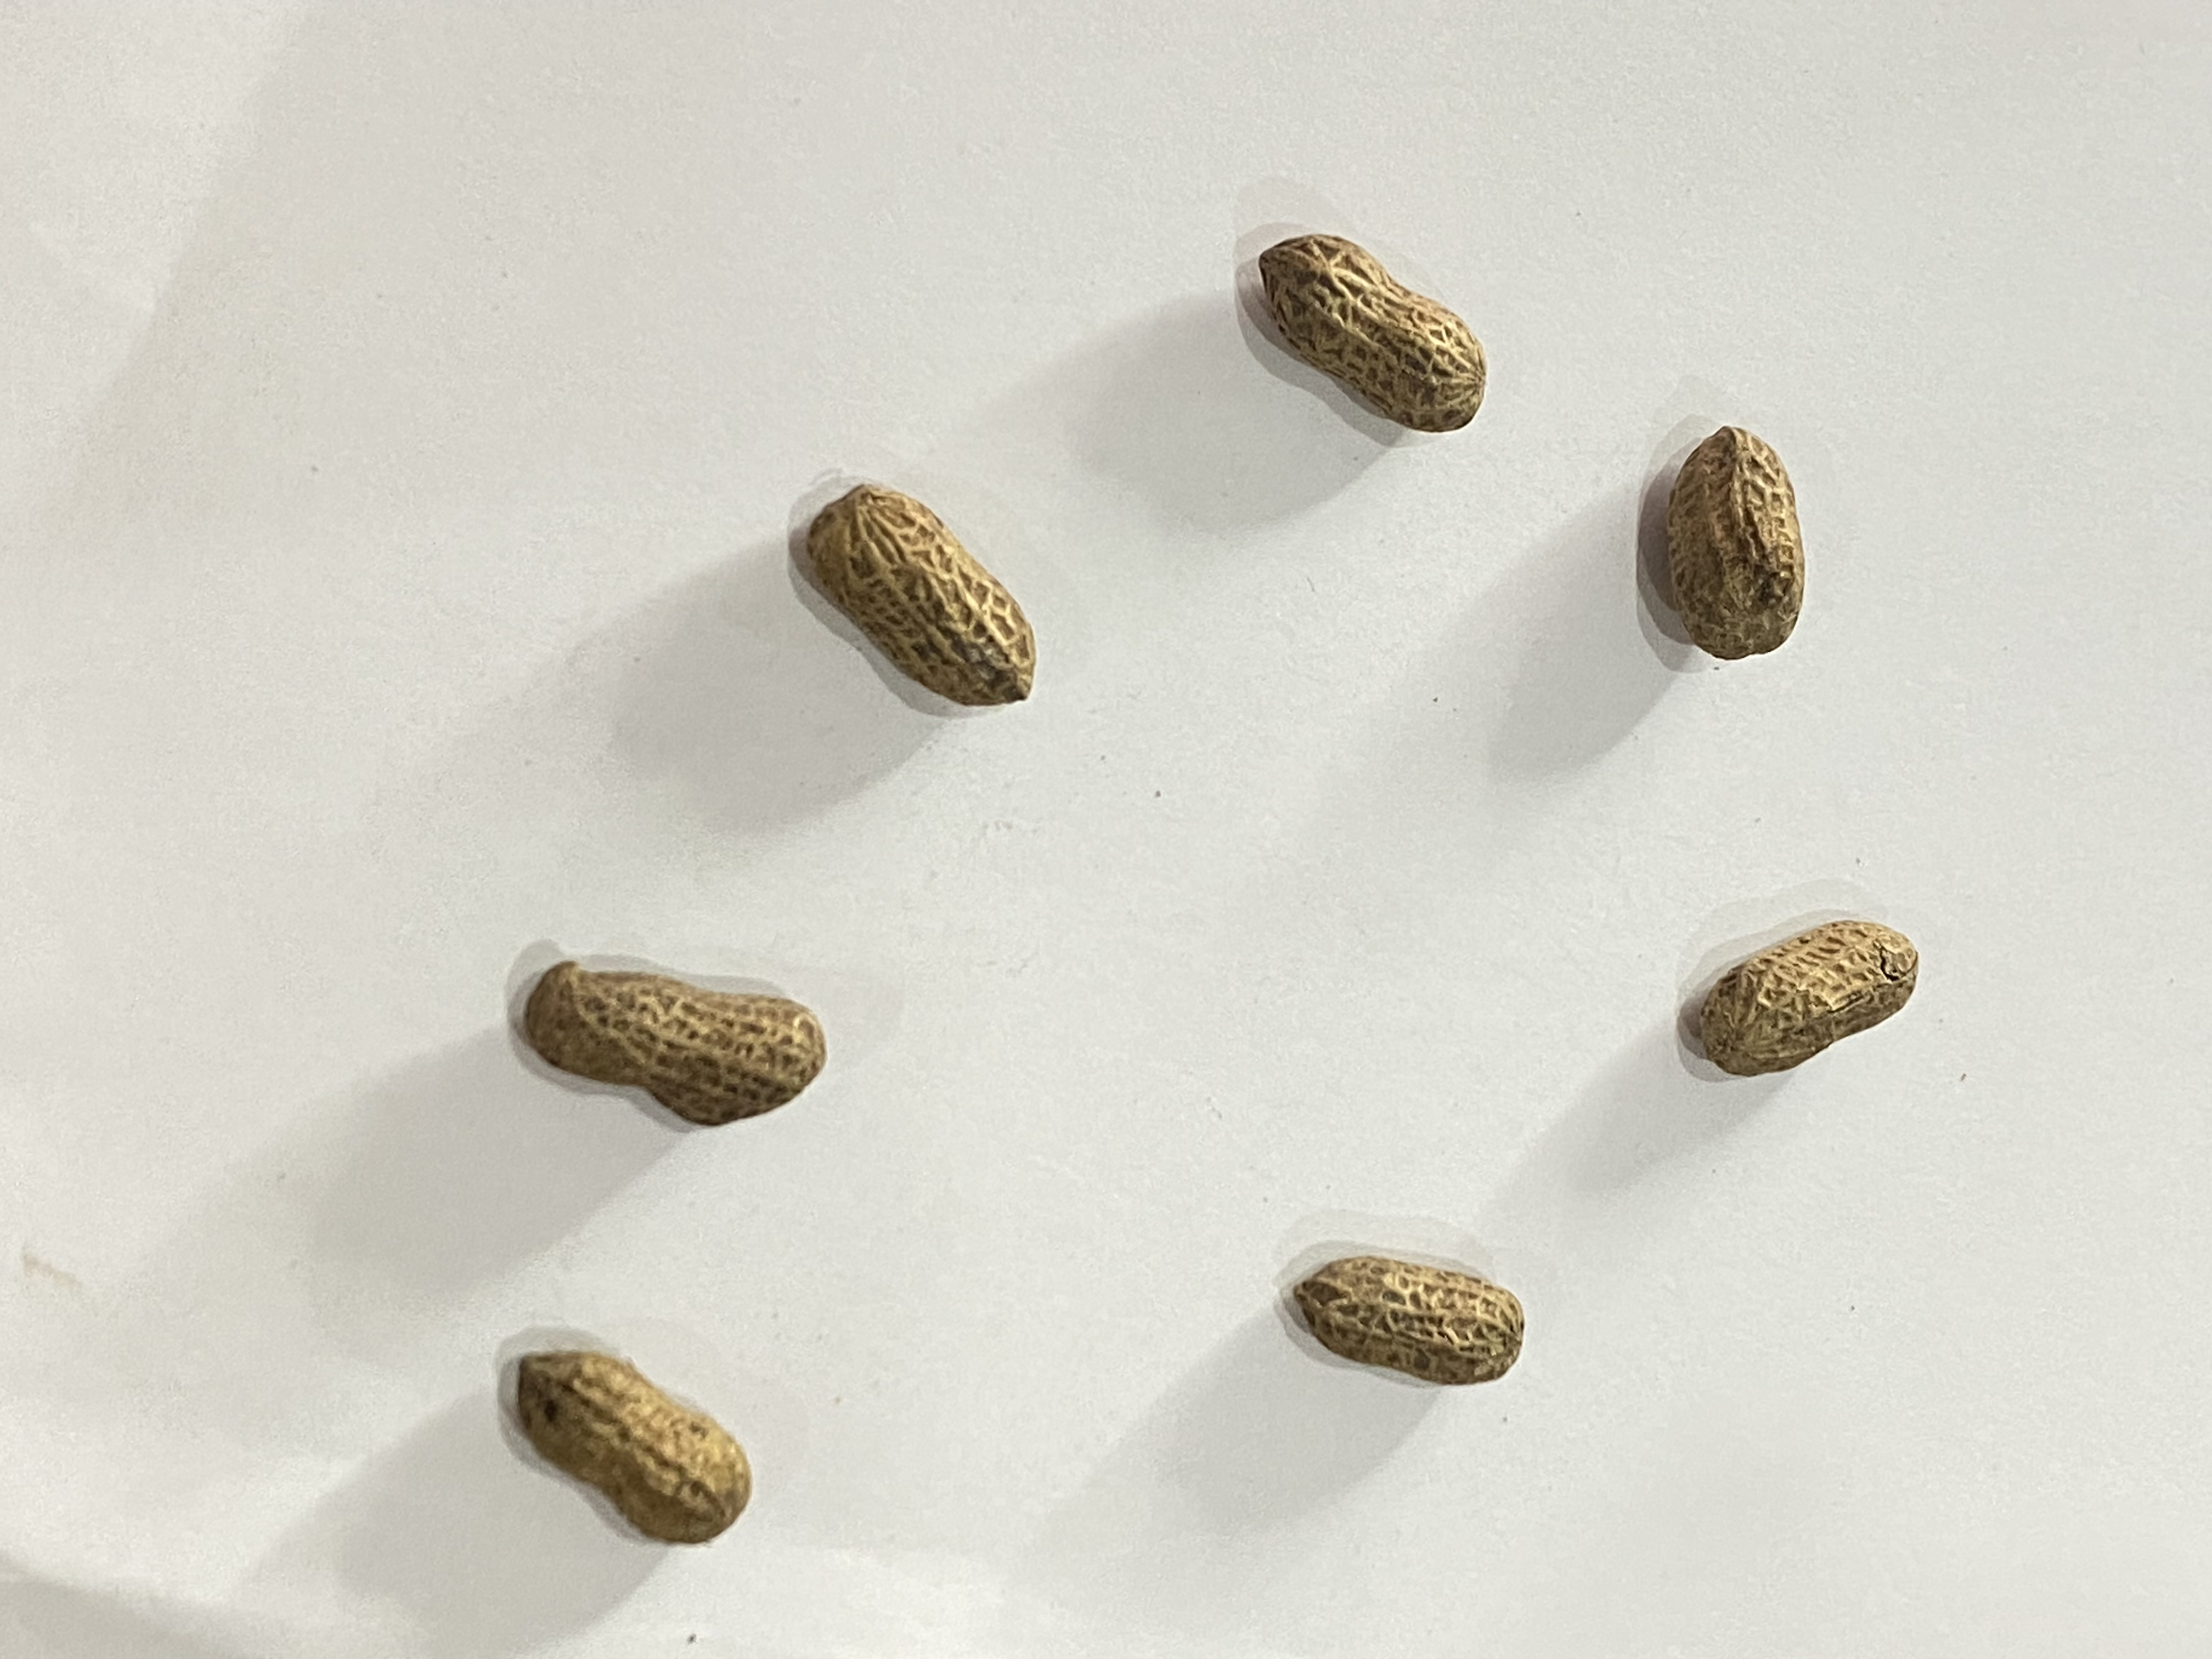kacang1: (1604, 411, 1857, 673)
kacang2: (463, 945, 881, 1150), (1242, 202, 1515, 460), (486, 1319, 765, 1565), (791, 469, 1061, 720), (1674, 918, 1951, 1082), (1259, 1248, 1543, 1394)
